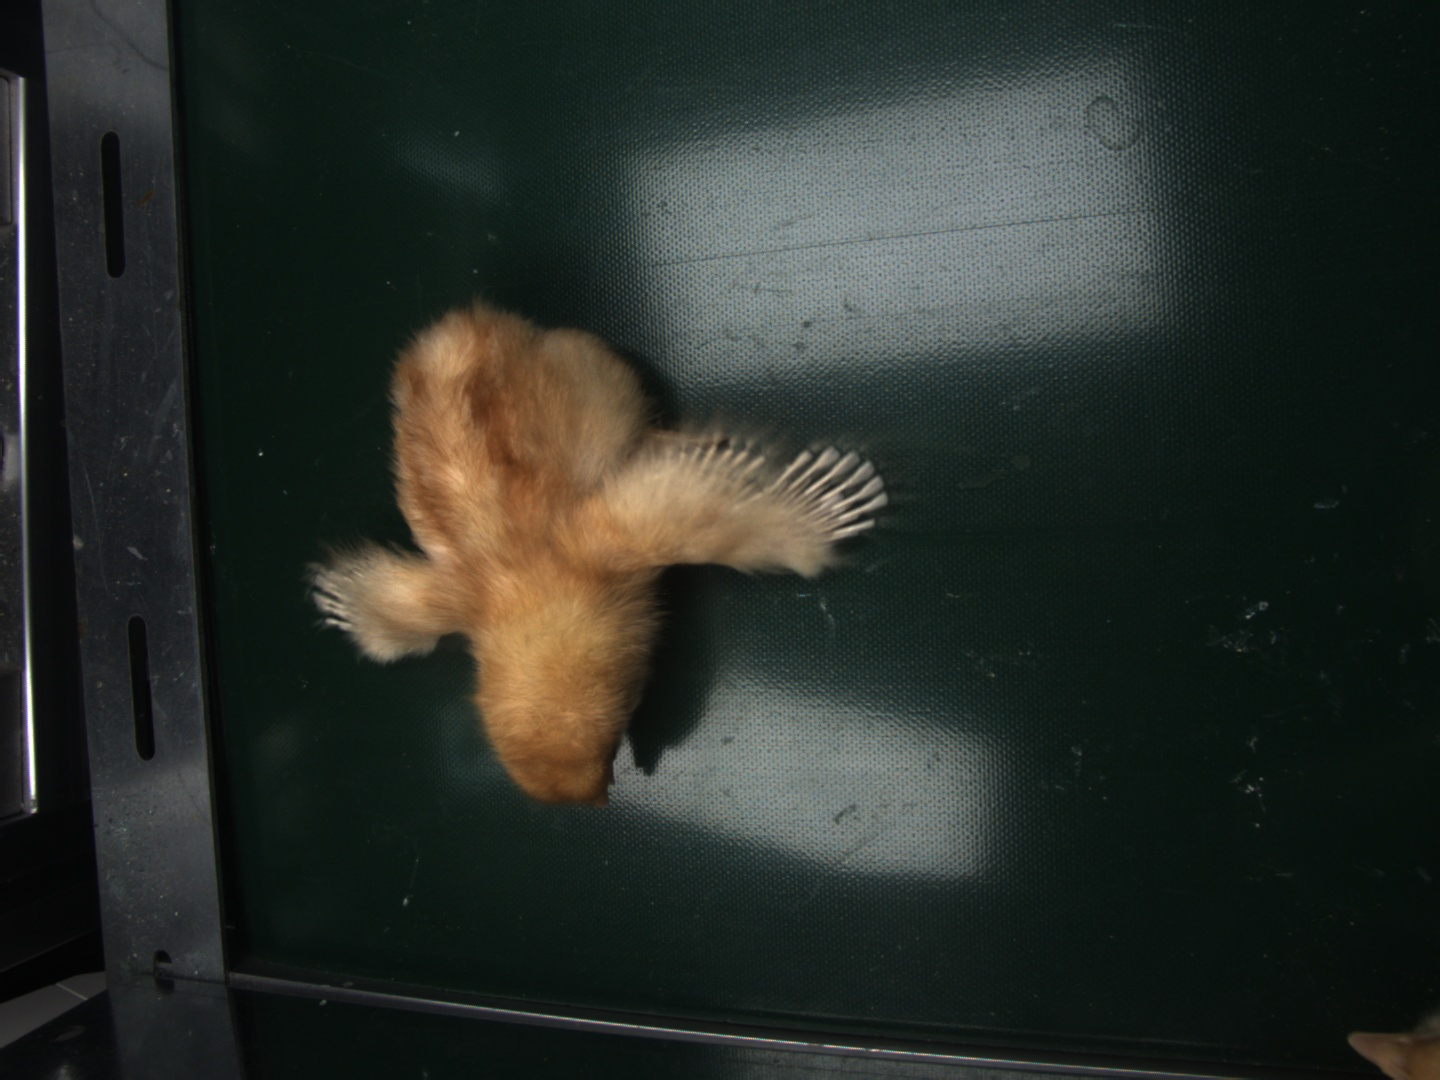female: (776, 447, 893, 537)
